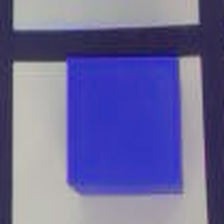cube: (49, 44, 204, 210)
